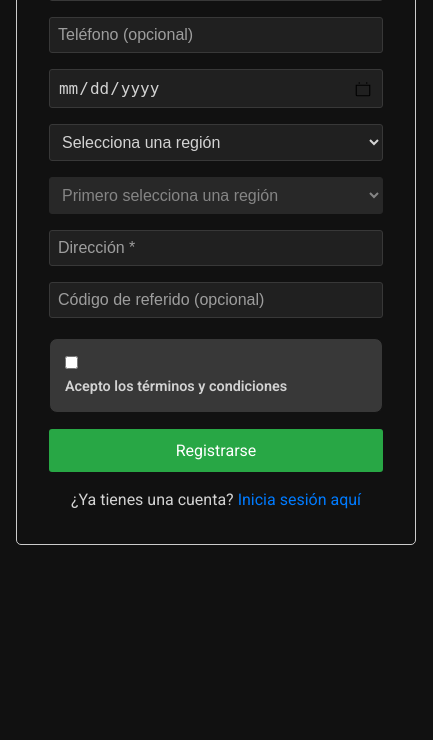
Scenario: Register › Debería mostrar error cuando el nombre está vacío
(page scrolled)
Click the button "Registrarse".
click(216, 450)  # box [49,429,383,472]
(page scrolled)
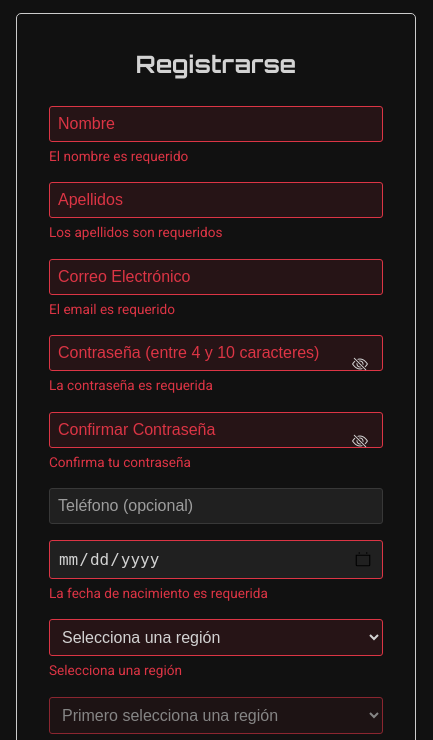
Result: the text "El nombre es requerido" is shown at [49,148,188,164]
